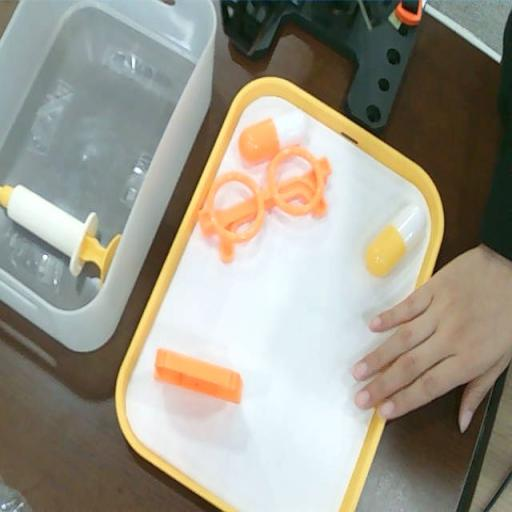hospital: (348, 268, 511, 433)
